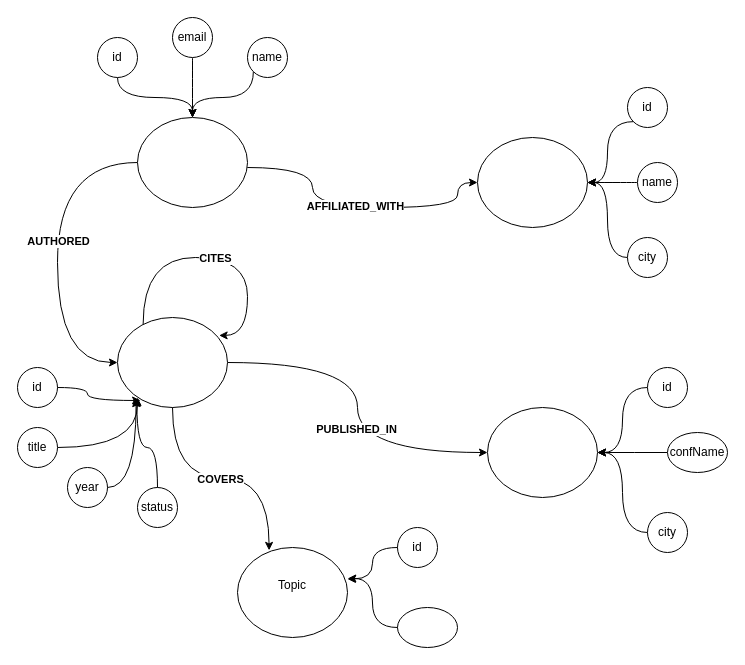
This 745x665 diagram has some shape labels left out. The centre of each missing label's shape, as x and y in pixels:
Conference: (x=542, y=452)
Institution: (x=532, y=182)
Paper: (x=172, y=362)
Researcher: (x=192, y=162)
topicName: (x=427, y=627)
